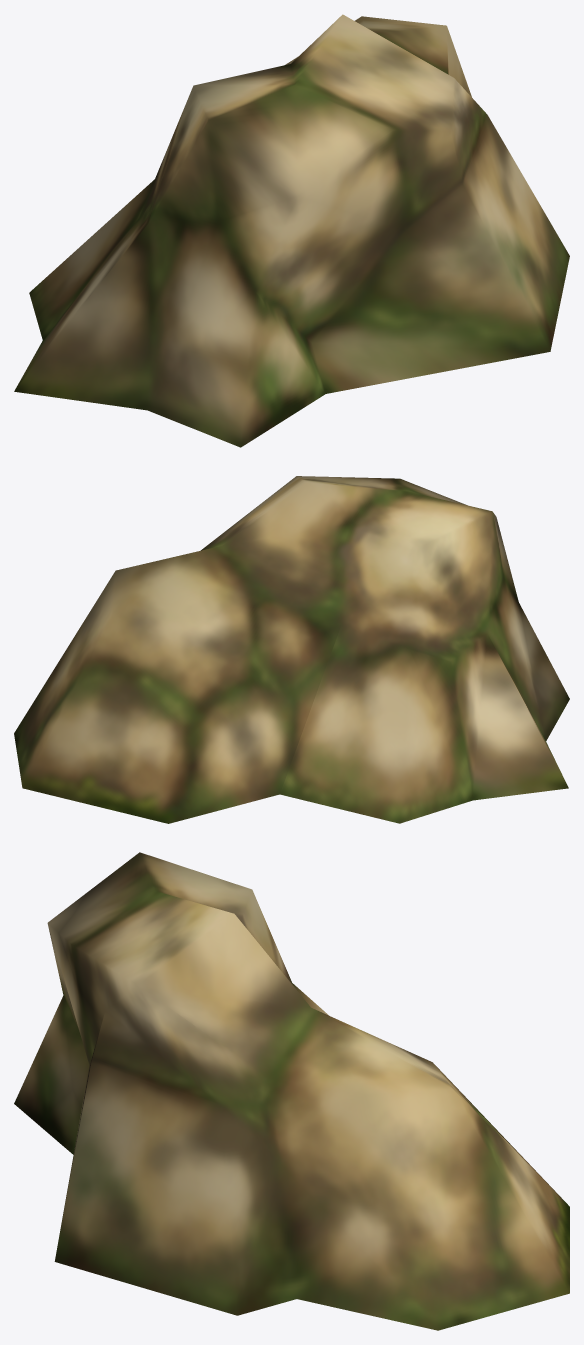
Rendered from 001IwaS04.fbx.
The picture shows the model from 3 angles, top to bottom: view 1: azimuth 30°, elevation 25°; view 2: azimuth 150°, elevation 25°; view 3: azimuth 270°, elevation 25°; orthographic projection. The views are drawn at different scales.
Parts seen in each view (by area): view 1: IwaS02; view 2: IwaS02; view 3: IwaS02.
Part boxes in pixels (box(x1,y1,x2,y2)): IwaS02: box(14, 14, 569, 447); IwaS02: box(14, 476, 569, 823); IwaS02: box(14, 852, 569, 1330).
Bounding box in the file's own units: 123 × 59.6 × 103.
1 material, 1 textured.
